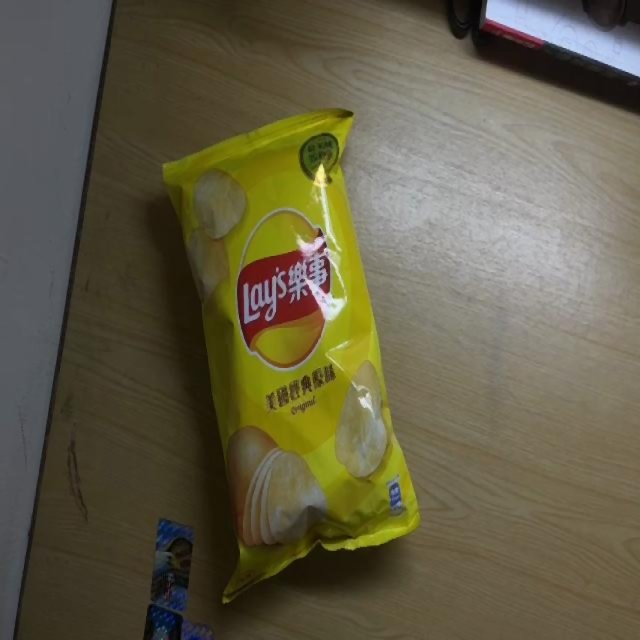Lay-s-original: (159, 106, 421, 608)
